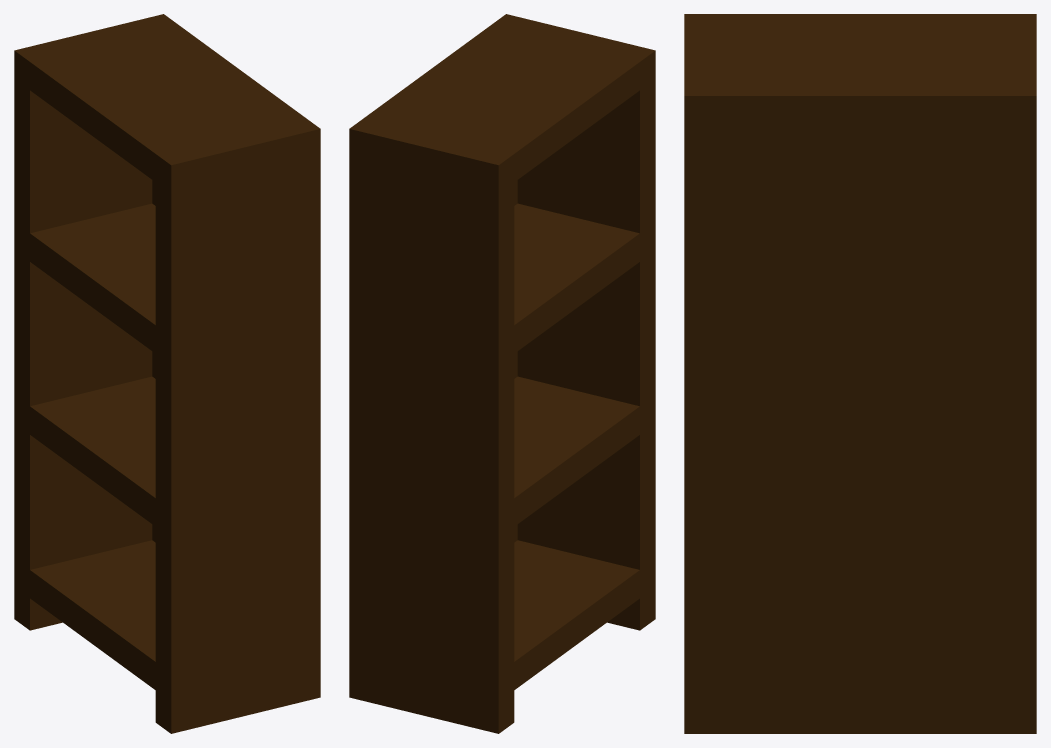
File: shelf.obj
3 views of the same model, side by side, from view 1: azimuth 30°, elevation 25°; view 2: azimuth 150°, elevation 25°; view 3: azimuth 270°, elevation 25° (orthographic). The views are drawn at different scales.
Visible parts, largest first — view 1: Cube; view 2: Cube; view 3: Cube.
Part boxes in pixels (bbox=[...]): Cube: bbox=[14, 14, 320, 733]; Cube: bbox=[349, 14, 655, 733]; Cube: bbox=[684, 14, 1036, 733].
Size of the model in its own units: 2.2 by 8 by 4.
1 material, 1 textured.
